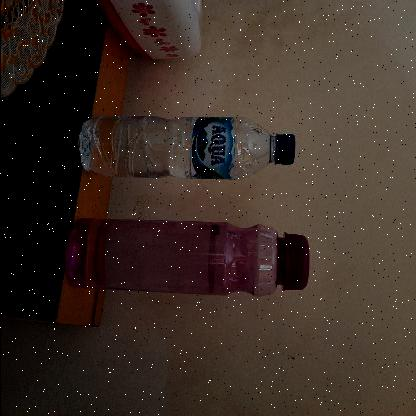Plastic Bottle: (61, 219, 309, 299), (76, 111, 298, 183)
